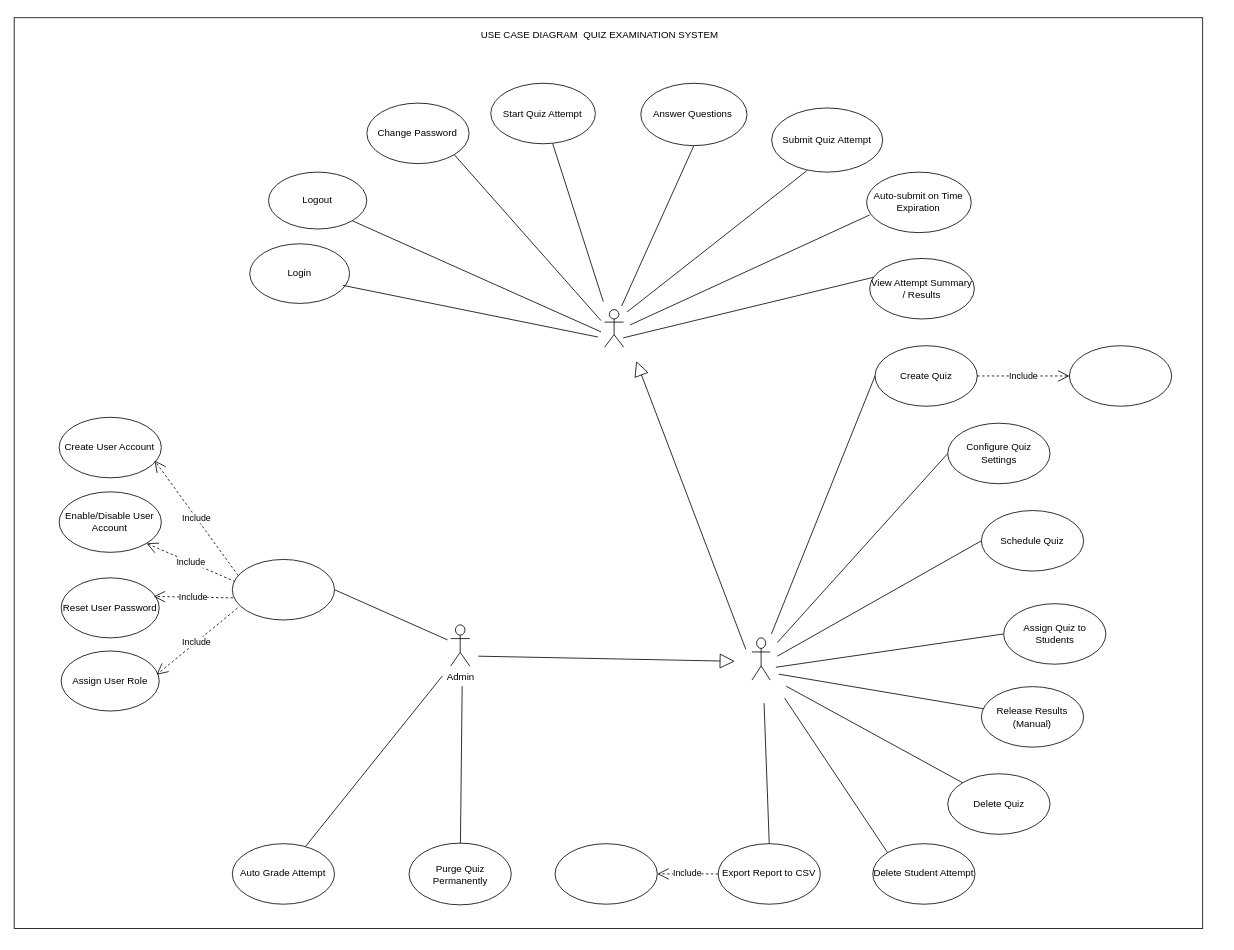
Some shapes in this 1234 by 950 pixel diagram are drawn without their labels. Each missing label, with the box of its shape:
Manage Question Bank: (1069, 345, 1172, 406)
Manage User Accounts: (231, 559, 335, 620)
Student: (604, 309, 624, 347)
Teacher: (751, 637, 770, 680)
View Quiz Attempts Report: (554, 843, 657, 904)
